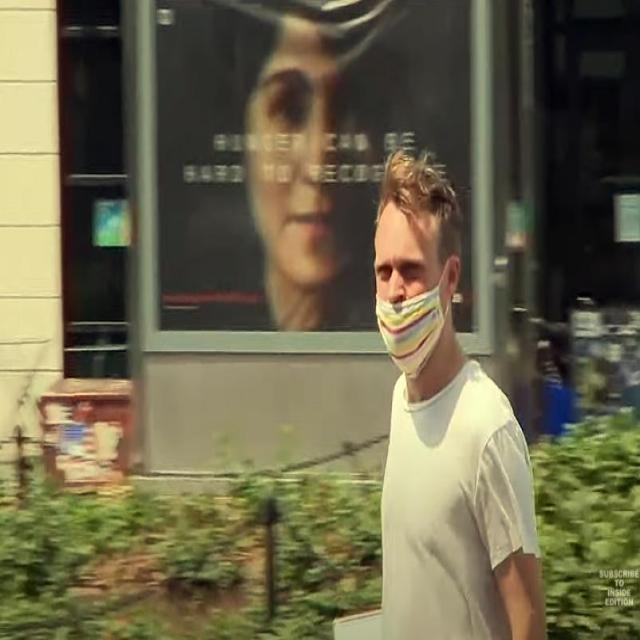hairnet: (374, 249, 444, 378)
